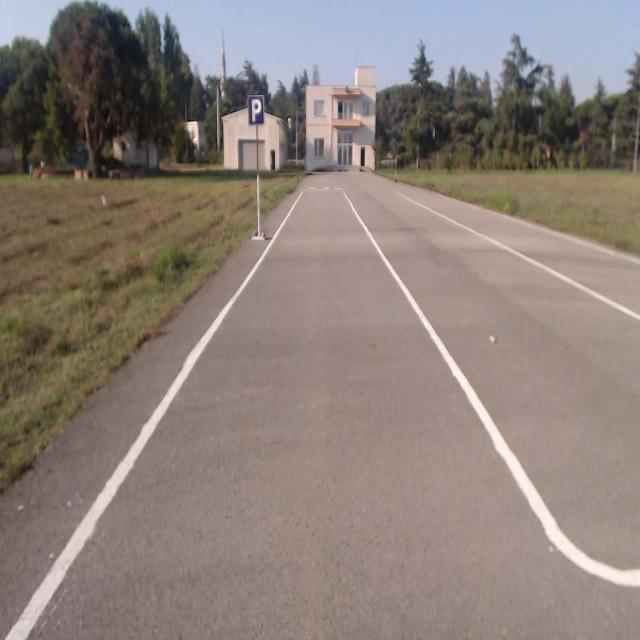park: (249, 94, 263, 124)
